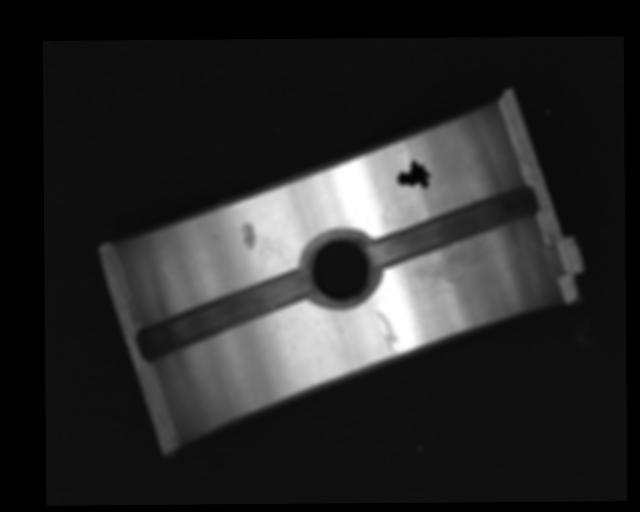blot: (395, 158, 431, 189)
bruise: (240, 221, 255, 250)
gap: (137, 270, 312, 359), (370, 185, 537, 263)
hole: (308, 231, 378, 303)
nick: (374, 309, 398, 356)
scratch: (402, 237, 500, 288)
